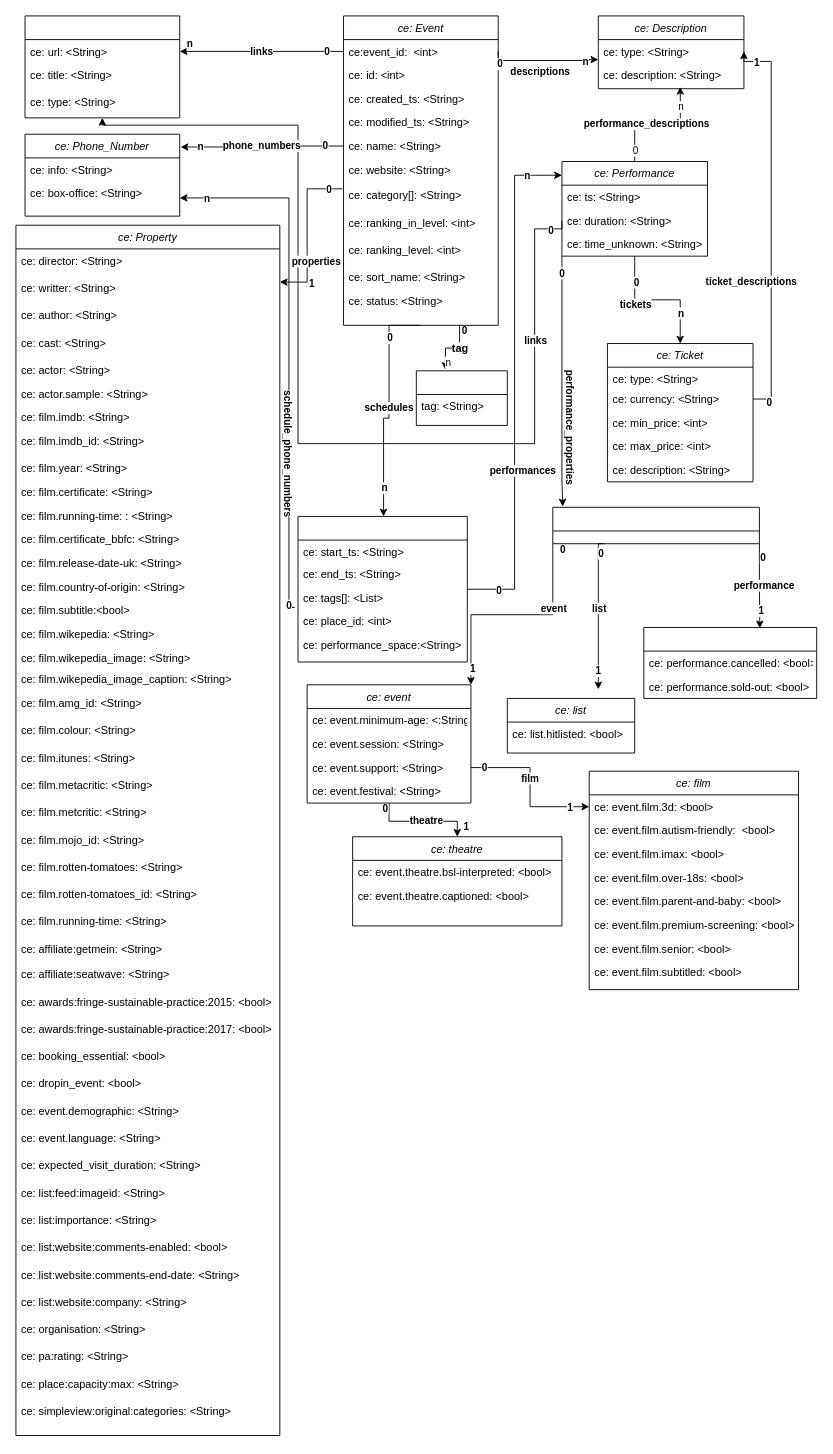
Some shapes in this 833 by 1454 pixel diagram are drawn without their labels. The box of each missing label's shape, as (x1, y1, x2, y2) in pixels:
(Performance)Property: (552, 506, 759, 544)
(property)performance: (643, 627, 817, 698)
ce: Link: (24, 15, 180, 118)
ce: Schedule: (297, 516, 467, 662)
ce: tags: (415, 370, 507, 425)
